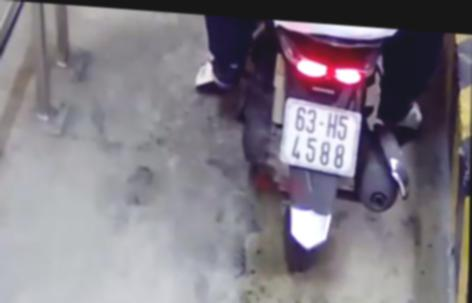License_Plate: (277, 92, 365, 184)
